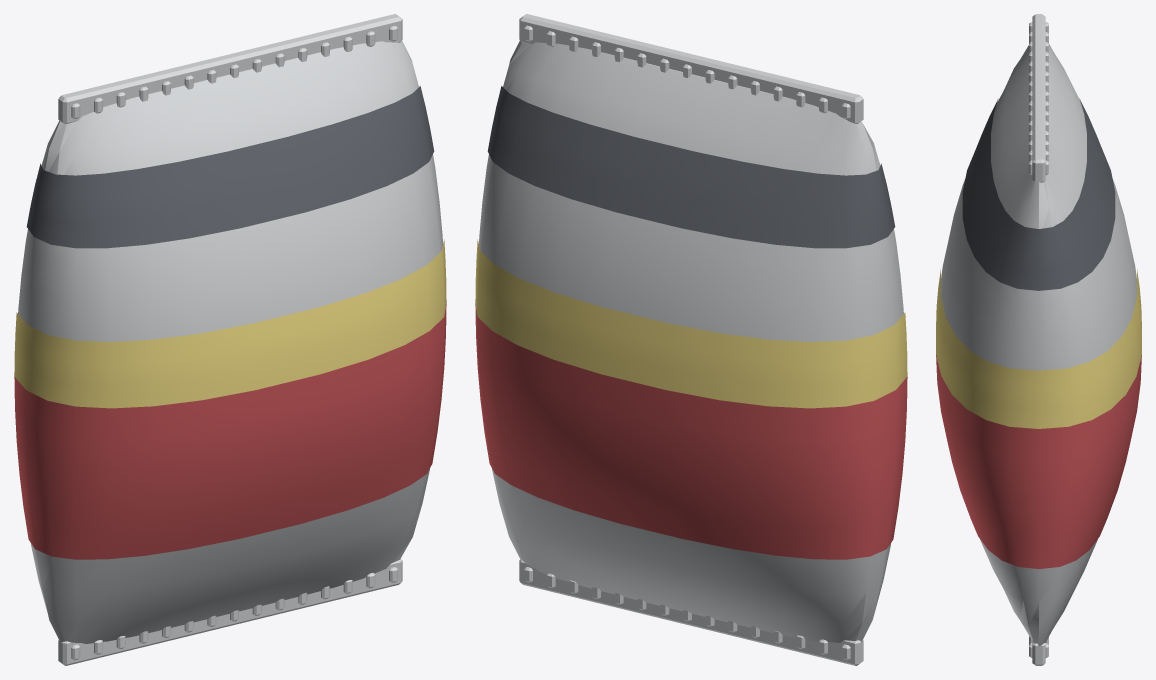
File: fresh-produce-and-groceries-crisps-bag-51f3211c__24427.glb
3 renders of one model, left to right at view 1: azimuth 30°, elevation 25°; view 2: azimuth 150°, elevation 25°; view 3: azimuth 270°, elevation 25°, orthographic. The views are drawn at different scales.
Visible parts, largest first — view 1: crisps-bag; view 2: crisps-bag; view 3: crisps-bag.
Part boxes in pixels (x1,y1,x2,y2): crisps-bag: [14, 14, 446, 665]; crisps-bag: [475, 14, 907, 665]; crisps-bag: [936, 14, 1141, 665].
Bounding box in the file's own units: 0.1772 × 0.235 × 0.0866.
